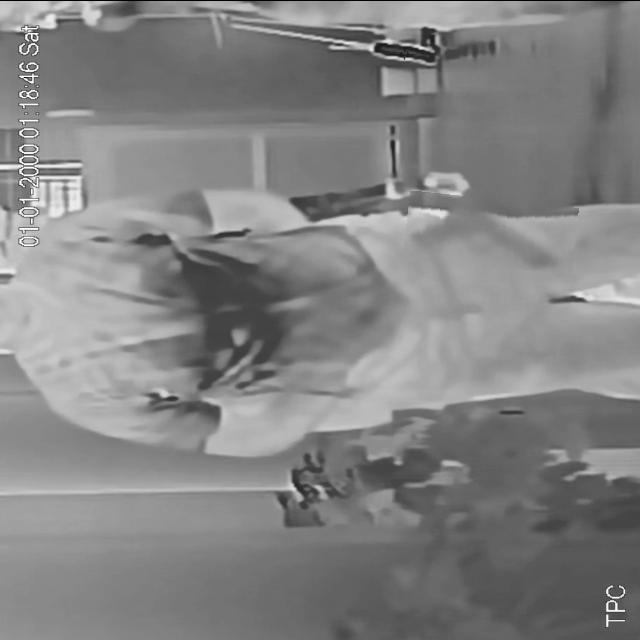Weapon: (404, 193, 578, 270)
